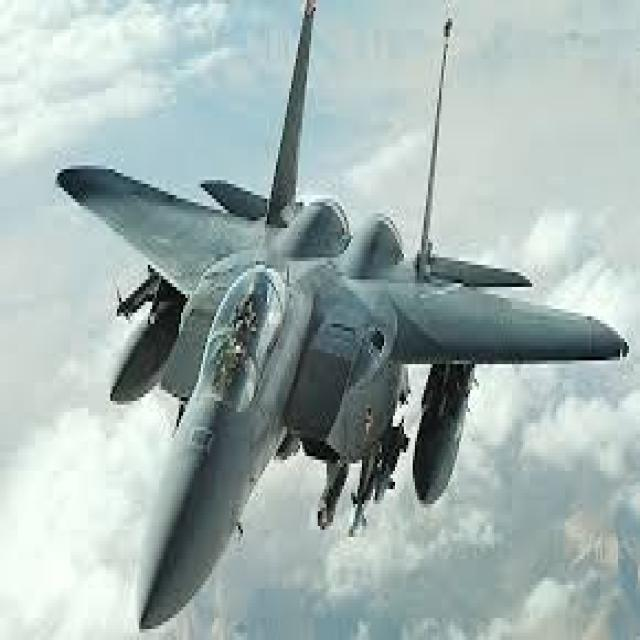F15: (42, 0, 635, 640)
